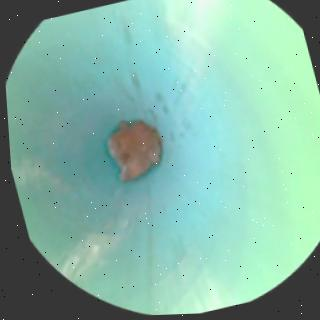stone: (102, 123, 157, 178)
